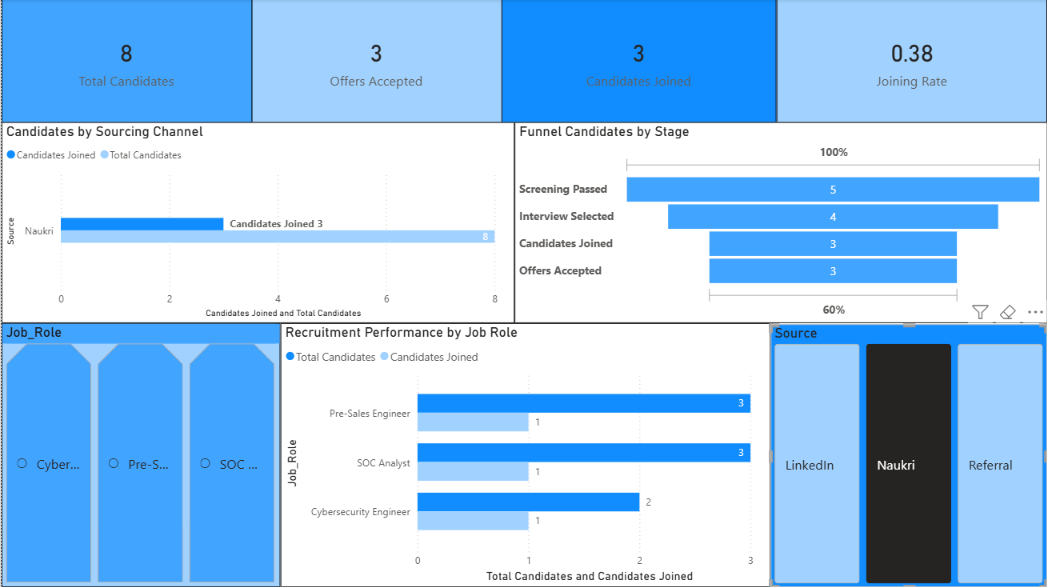

The page's visual inventory and layout, read from the dashboard file:
{"tool":"powerbi","page":{"name":"Page 1","canvas":[1280,720],"ordinal":0},"visuals":[{"type":"card","fields":{"Values":["Table1.Candidates Joined"]},"box":[612,0,336.2,150.9],"z":0},{"type":"card","fields":{"Values":["Table1.Offers Accepted"]},"box":[306,0,306,150.9],"z":1},{"type":"card","fields":{"Values":["Table1.Total Candidates"]},"box":[0,0,306,150.9],"z":2},{"type":"card","fields":{"Values":["Table1.Joining Rate"]},"box":[948.2,0,332.1,150.9],"z":3},{"type":"clusteredBarChart","title":"Candidates by Sourcing Channel","fields":{"Category":["Table1.Source"],"Y":["Table1.Candidates Joined","Table1.Total Candidates"]},"box":[0,150.5,627.4,245.6],"z":4},{"type":"funnel","fields":{"Category":["Recruitment_Stages.Stage"],"Y":["Recruitment_Stages.Funnel Candidates"]},"box":[627.1,150.9,653.2,245.6],"z":5},{"type":"clusteredBarChart","title":"Recruitment Performance by Job Role","fields":{"Category":["Table1.Job_Role"],"Y":["Table1.Total Candidates","Table1.Candidates Joined"]},"box":[340.7,396,599,323.6],"z":6},{"type":"advancedSlicerVisual","fields":{"Values":["Table1.Job_Role"]},"box":[0,396,340.7,323.6],"z":7},{"type":"advancedSlicerVisual","fields":{"Values":["Table1.Source"]},"box":[940,397,340,323],"z":8}]}

Visuals, with their boxes in screenshot pixels (x1, y1, x2, y2), scaled from the page's 1280x720 canvas onto the 1047x587 screenshot:
card - Table1.Candidates Joined: BBox(501, 0, 776, 123)
card - Table1.Offers Accepted: BBox(250, 0, 501, 123)
card - Table1.Total Candidates: BBox(0, 0, 250, 123)
card - Table1.Joining Rate: BBox(776, 0, 1046, 123)
"Candidates by Sourcing Channel" clusteredBarChart: BBox(0, 123, 513, 323)
funnel - Recruitment_Stages.Stage x Recruitment_Stages.Funnel Candidates: BBox(513, 123, 1046, 323)
"Recruitment Performance by Job Role" clusteredBarChart: BBox(279, 323, 769, 586)
advancedSlicerVisual - Table1.Job_Role: BBox(0, 323, 279, 586)
advancedSlicerVisual - Table1.Source: BBox(769, 324, 1046, 586)
